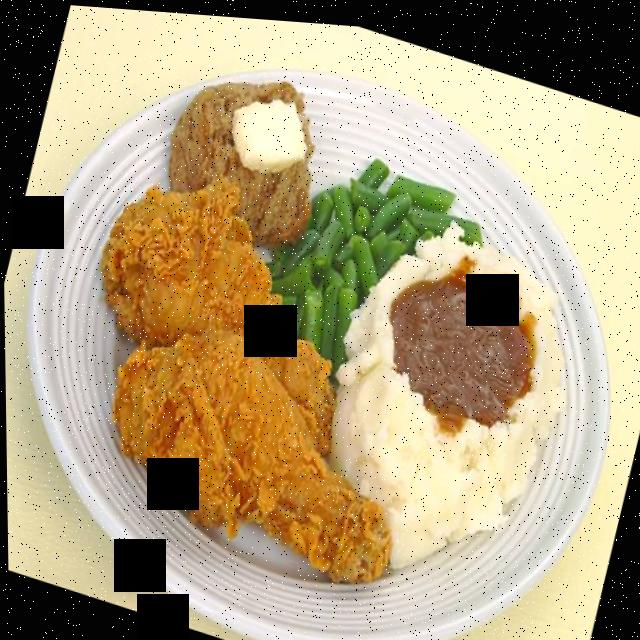Frango: (38, 127, 471, 600)
